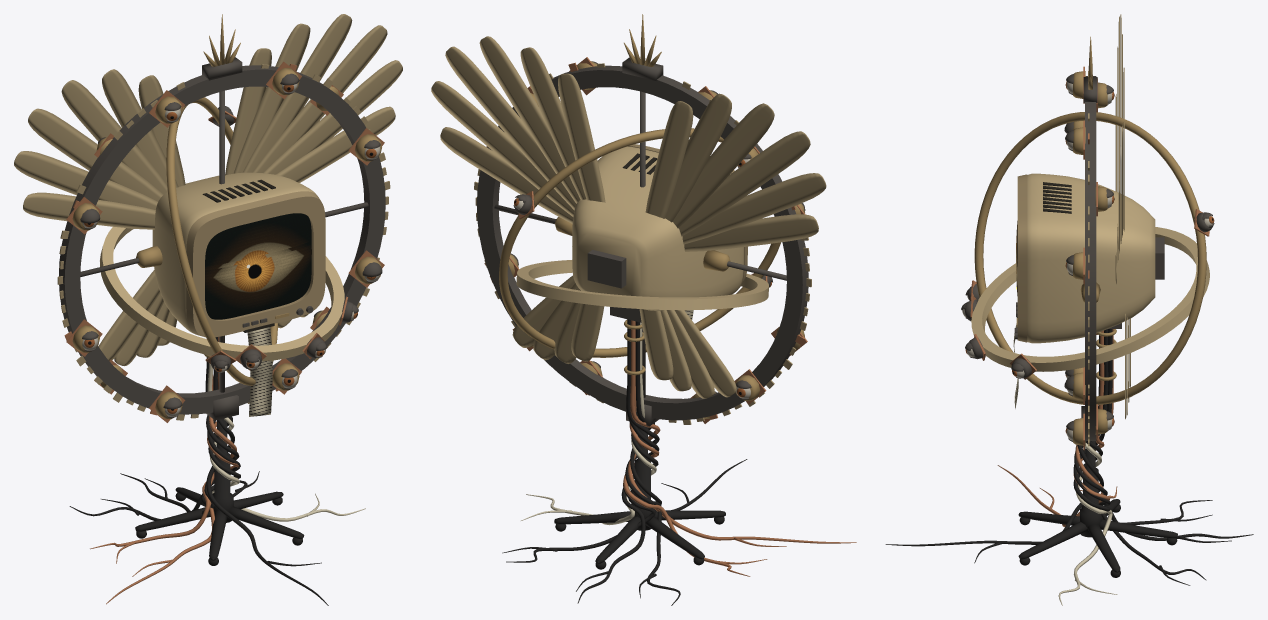
The model's file is ArchiveSeraph.glb.
3 renders of one model, left to right at view 1: azimuth 30°, elevation 25°; view 2: azimuth 150°, elevation 25°; view 3: azimuth 270°, elevation 25°, orthographic. The views are drawn at different scales.
Parts seen in each view (by area): view 1: OPH_wings_folder_fans, OPH_ring_outer, OPH_core_screen, OPH_core_bezel, OPH_core_housing, OPH_ring_reel, OPH_base_star_column, OPH_ring_armillary, OPH_relic_barrels_brass, OPH_nerves_black, OPH_axles_clamps, OPH_relic_plates_outer (+9 smaller); view 2: OPH_wings_folder_fans, OPH_core_housing, OPH_ring_outer, OPH_ring_reel, OPH_nerves_black, OPH_ring_armillary, OPH_base_star_column, OPH_nerves_copper, OPH_axles_clamps, OPH_core_controls, OPH_crown_trunnions, OPH_relic_barrels_brass (+3 smaller); view 3: OPH_core_housing, OPH_ring_armillary, OPH_ring_reel, OPH_ring_outer, OPH_nerves_black, OPH_base_star_column, OPH_relic_barrels_brass, OPH_wings_folder_fans, OPH_core_bezel, OPH_nerves_copper, OPH_nerves_ivory, OPH_relic_eyes_shutters_outer (+4 smaller).
Part boxes in pixels (<box>): OPH_wings_folder_fans: <box>14,14,402,366</box>; OPH_ring_outer: <box>59,65,385,414</box>; OPH_core_screen: <box>205,213,311,319</box>; OPH_core_bezel: <box>186,191,325,337</box>; OPH_core_housing: <box>152,172,315,333</box>; OPH_ring_reel: <box>100,226,344,361</box>; OPH_base_star_column: <box>135,418,304,565</box>; OPH_ring_armillary: <box>166,97,277,385</box>; OPH_relic_barrels_brass: <box>72,68,381,419</box>; OPH_nerves_black: <box>69,337,328,605</box>; OPH_axles_clamps: <box>80,57,368,420</box>; OPH_relic_plates_outer: <box>66,61,384,422</box>; OPH_wings_folder_fans: <box>431,36,826,398</box>; OPH_core_housing: <box>572,146,743,310</box>; OPH_ring_outer: <box>476,65,808,420</box>; OPH_ring_reel: <box>516,260,768,310</box>; OPH_nerves_black: <box>502,319,747,605</box>; OPH_ring_armillary: <box>499,128,780,357</box>; OPH_base_star_column: <box>554,426,725,569</box>; OPH_nerves_copper: <box>623,320,856,576</box>; OPH_axles_clamps: <box>494,57,786,426</box>; OPH_core_controls: <box>587,249,641,322</box>; OPH_crown_trunnions: <box>555,14,730,271</box>; OPH_relic_barrels_brass: <box>508,61,804,418</box>; OPH_core_housing: <box>1027,173,1155,343</box>; OPH_ring_armillary: <box>974,112,1206,404</box>; OPH_ring_reel: <box>971,227,1209,371</box>; OPH_ring_outer: <box>1085,76,1096,440</box>; OPH_nerves_black: <box>885,329,1253,585</box>; OPH_base_star_column: <box>1018,441,1177,577</box>; OPH_relic_barrels_brass: <box>1073,71,1107,445</box>; OPH_wings_folder_fans: <box>1115,14,1130,419</box>; OPH_core_bezel: <box>1017,174,1027,342</box>; OPH_nerves_copper: <box>997,329,1117,526</box>; OPH_nerves_ivory: <box>1058,443,1117,605</box>; OPH_relic_eyes_shutters_outer: <box>1064,74,1113,441</box>.
Bounding box in the file's own units: 1.99 × 2.52 × 1.66.
15 materials, 2 textured.
